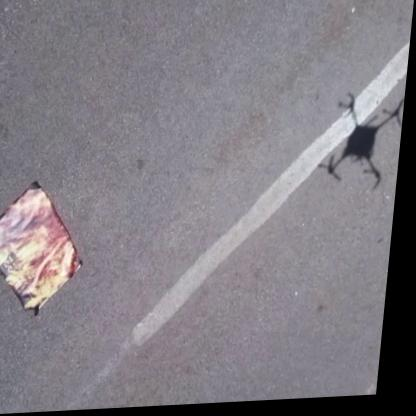fire-poster: (0, 178, 95, 322)
